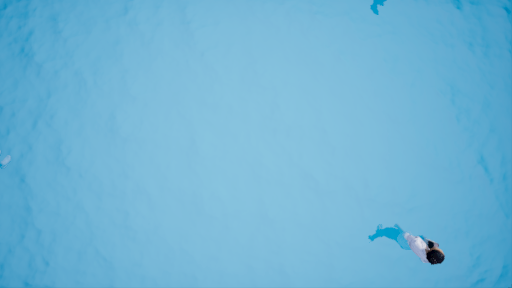person: (369, 221, 448, 269)
